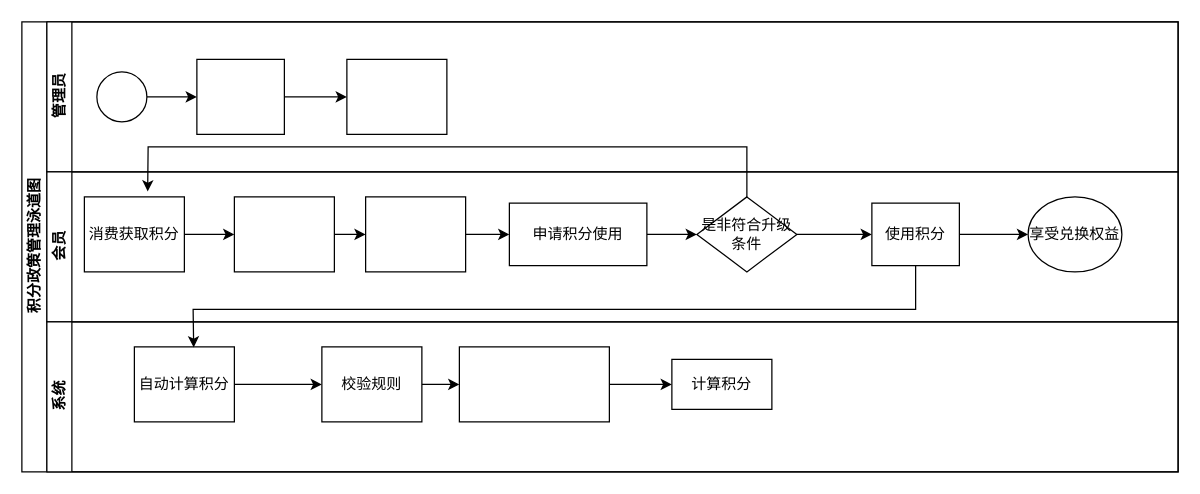
Some shapes in this 1200 by 494 pixel diagram are drawn without their labels. The centre of each missing label's shape, as x and y in pixels:
人工审核异常: the point at 396,96
查询积分: the point at 415,234
获得积分: the point at 283,234
记录积分变动: the point at 533,384
设定积分政策id: the point at 121,96
设定积分政策名称: the point at 240,96
